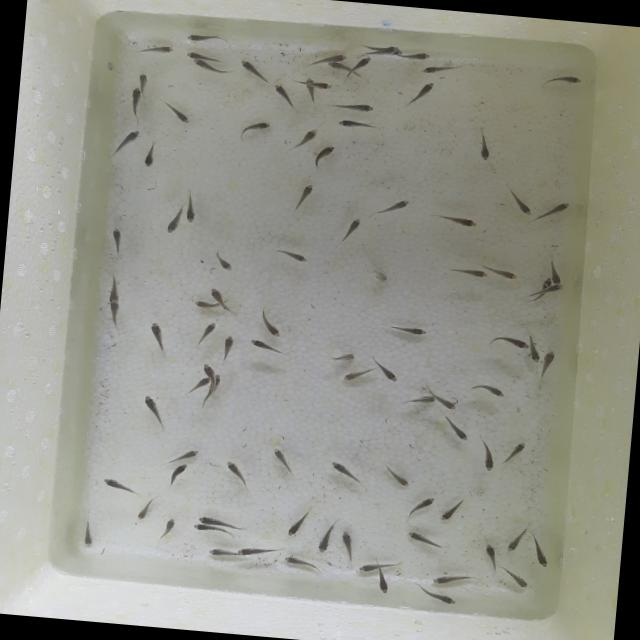fingerling: (325, 455, 370, 486), (419, 59, 472, 81), (437, 494, 473, 526), (432, 208, 477, 232), (215, 459, 250, 489), (264, 446, 298, 476), (140, 394, 170, 428), (469, 128, 494, 167), (372, 194, 411, 218), (400, 495, 435, 521), (504, 190, 536, 218), (430, 570, 479, 588), (484, 261, 522, 284), (534, 72, 582, 90), (280, 554, 323, 574), (486, 333, 529, 353), (334, 95, 379, 114), (312, 520, 336, 555), (144, 322, 170, 354), (537, 197, 571, 221), (497, 440, 526, 468), (381, 462, 412, 488), (358, 556, 398, 576), (193, 522, 233, 542), (463, 380, 503, 400), (403, 530, 447, 548), (260, 307, 284, 340), (113, 128, 141, 156), (284, 508, 310, 538), (498, 570, 536, 590), (246, 337, 284, 357), (386, 322, 428, 340), (369, 356, 398, 382), (406, 80, 436, 105), (442, 264, 488, 280), (166, 100, 193, 127), (162, 462, 190, 488), (313, 144, 342, 169), (332, 117, 376, 133), (292, 184, 317, 212), (296, 126, 321, 154), (235, 120, 270, 140), (310, 49, 348, 67), (210, 252, 240, 274), (125, 86, 142, 124), (270, 82, 294, 108), (478, 538, 500, 566), (198, 318, 220, 346), (419, 589, 457, 605), (277, 248, 315, 264), (500, 531, 526, 554), (339, 215, 362, 241), (530, 541, 552, 568), (337, 532, 358, 560), (76, 517, 96, 546), (185, 30, 219, 47), (524, 330, 542, 362), (192, 512, 233, 526), (442, 420, 468, 442), (236, 59, 262, 81), (134, 42, 174, 56), (372, 572, 394, 596), (238, 546, 282, 558), (480, 440, 496, 472), (184, 192, 200, 224), (192, 59, 222, 76), (156, 516, 178, 539), (97, 476, 133, 490), (105, 298, 123, 326), (538, 350, 558, 375), (341, 367, 370, 384), (434, 391, 458, 411), (169, 447, 197, 464), (165, 208, 182, 236), (134, 494, 150, 523), (205, 288, 234, 304), (372, 40, 399, 57), (327, 349, 359, 363), (546, 258, 562, 286), (326, 62, 354, 78), (218, 334, 236, 358), (110, 227, 127, 252), (401, 394, 436, 406), (184, 51, 219, 63), (142, 142, 158, 168), (106, 274, 122, 299), (207, 542, 231, 558), (188, 376, 210, 392), (350, 56, 373, 71), (196, 362, 220, 376), (303, 76, 316, 100), (132, 72, 154, 86), (194, 300, 218, 312), (406, 50, 433, 60), (314, 82, 332, 90), (550, 284, 562, 295)
